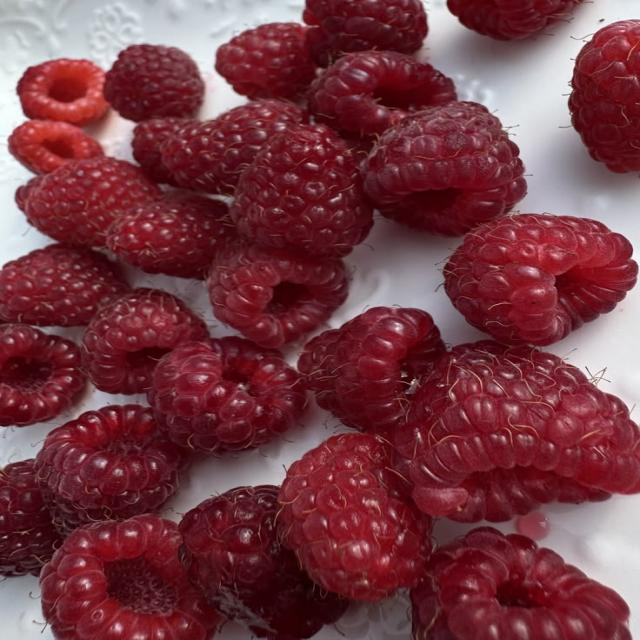raspberry: (394, 341, 639, 521), (180, 485, 348, 639), (278, 433, 431, 601), (444, 214, 638, 345), (411, 527, 631, 639), (40, 515, 220, 639), (362, 102, 526, 235), (35, 405, 186, 533), (230, 124, 373, 257), (298, 307, 445, 431), (148, 336, 305, 452), (207, 245, 348, 347), (161, 99, 307, 195), (82, 288, 207, 394), (307, 51, 456, 136), (26, 157, 161, 247), (107, 191, 237, 279), (569, 20, 639, 172), (0, 244, 128, 326), (376, 177, 527, 236), (0, 323, 86, 426), (304, 0, 427, 65), (104, 44, 204, 121), (215, 23, 315, 99), (0, 459, 61, 576), (17, 59, 108, 126), (447, 0, 582, 40), (8, 120, 104, 174), (132, 117, 193, 185), (14, 175, 42, 213)
